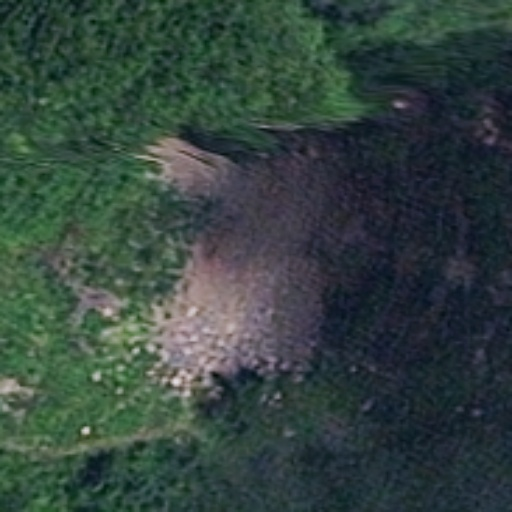landslide: (125, 136, 328, 388)
